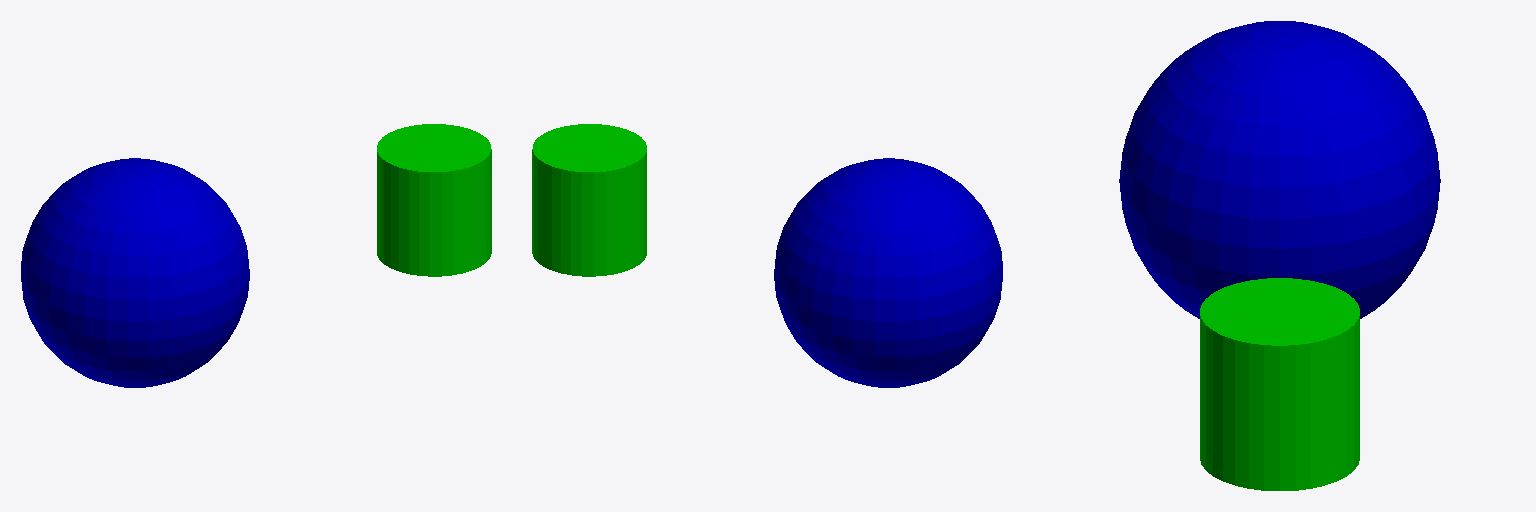
robot.urdf — A_vs_B:
<?xml version="1.0"?>
<robot name="A_vs_B">
  <material name="blue">
    <color rgba="0 0 0.8 .5"/>
  </material>
  <material name="green">
    <color rgba="0 0.8 0 .5"/>
  </material>
  <link name="A">
    <visual>
      <geometry>
        <sphere radius="1"/>
      </geometry>
      <origin rpy="0.0 0 0" xyz="-1.5 0 0"/>
      <material name="blue"/>
    </visual>
  </link>
  <link name="B">
    <visual>
      <geometry>
        <cylinder length="1.0" radius="0.5"/>
      </geometry>
      <origin rpy="0 0 0" xyz="1.5 0 0"/>
      <material name="green"/>
    </visual>
  </link>
  <joint name="joint1" type="revolute">
    <axis xyz="0 0 1"/>
    <limit effort="1" lower="-1" upper="1" velocity="1"/>
    <origin rpy="0 0 0" xyz="0 0 0"/>
    <parent link="A"/>
    <child link="B"/>
  </joint>
</robot>

--- Facts derived from the render (not from the file) ---
The picture shows the robot from 3 angles, left to right: view 1: azimuth 30°, elevation 25°; view 2: azimuth 150°, elevation 25°; view 3: azimuth 270°, elevation 25°; orthographic projection.
Robot: A_vs_B — 2 links, 1 joints (1 revolute); root link A; default pose: all joints at 0.
Visible links, largest first — view 1: A, B; view 2: A, B; view 3: A, B.
Boxes of the visible links, <box> form: A: <box>21,158,249,387</box>; B: <box>377,124,491,276</box>; A: <box>774,158,1002,387</box>; B: <box>532,124,646,276</box>; A: <box>1119,21,1440,318</box>; B: <box>1200,278,1359,490</box>.
Size in the robot's own frame: 4.5 by 2 by 2 metres.
Geometry: primitives only (box / cylinder / sphere), no mesh files.